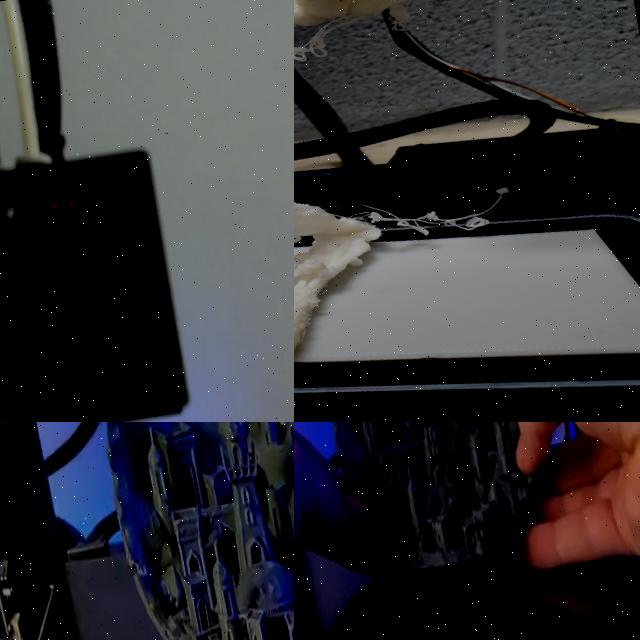spaghetti: (333, 170, 525, 256), (294, 0, 426, 73)
